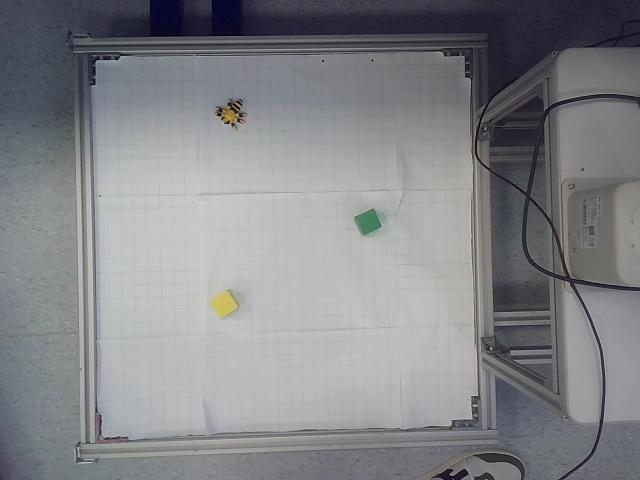frelon: (214, 98, 248, 131)
